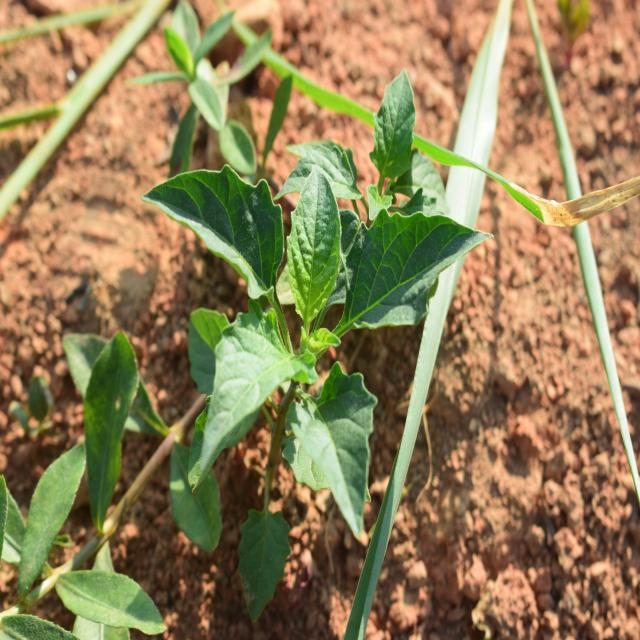Black_nightshade: (154, 152, 436, 518)
